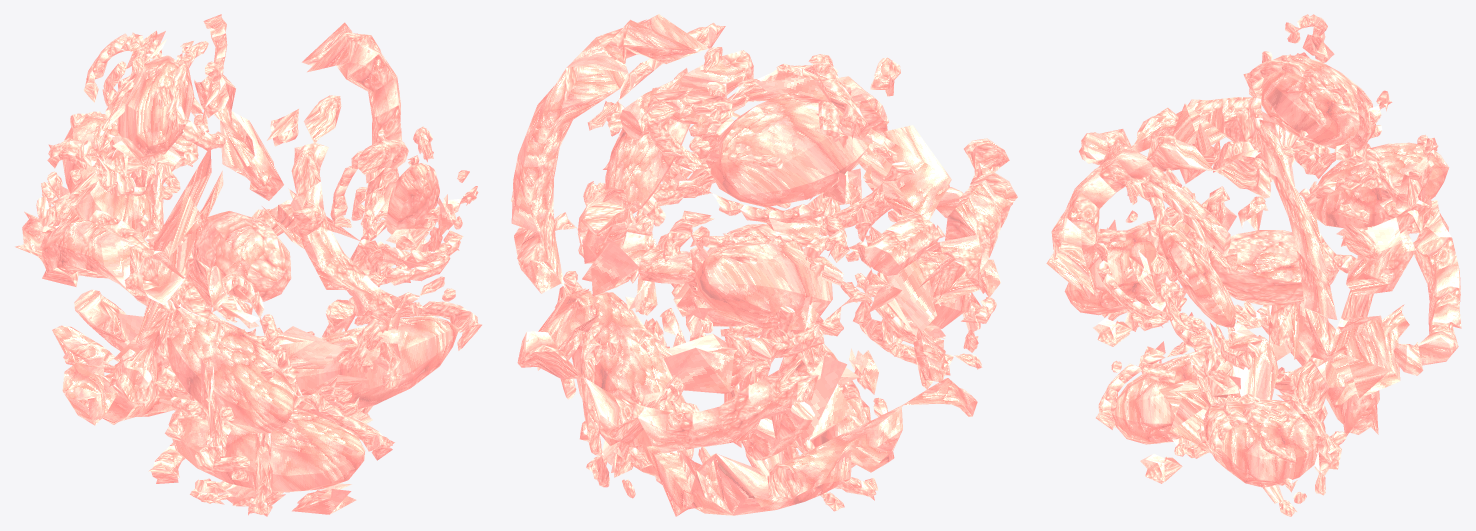
File: 175_blobbubble_spiky.gltf
The picture shows the model from 3 angles, left to right: view 1: azimuth 30°, elevation 25°; view 2: azimuth 150°, elevation 25°; view 3: azimuth 270°, elevation 25°; orthographic projection. The views are drawn at different scales.
Parts seen in each view (by area): view 1: blobbubble_spiky; view 2: blobbubble_spiky; view 3: blobbubble_spiky.
Boxes of the visible parts, x1=… form: blobbubble_spiky: x1=15, y1=14, x2=481, y2=516; blobbubble_spiky: x1=511, y1=14, x2=1017, y2=516; blobbubble_spiky: x1=1046, y1=14, x2=1461, y2=516.
Bounding box in the file's own units: 3.93 × 4.1 × 3.72.
1 material, 1 textured.
